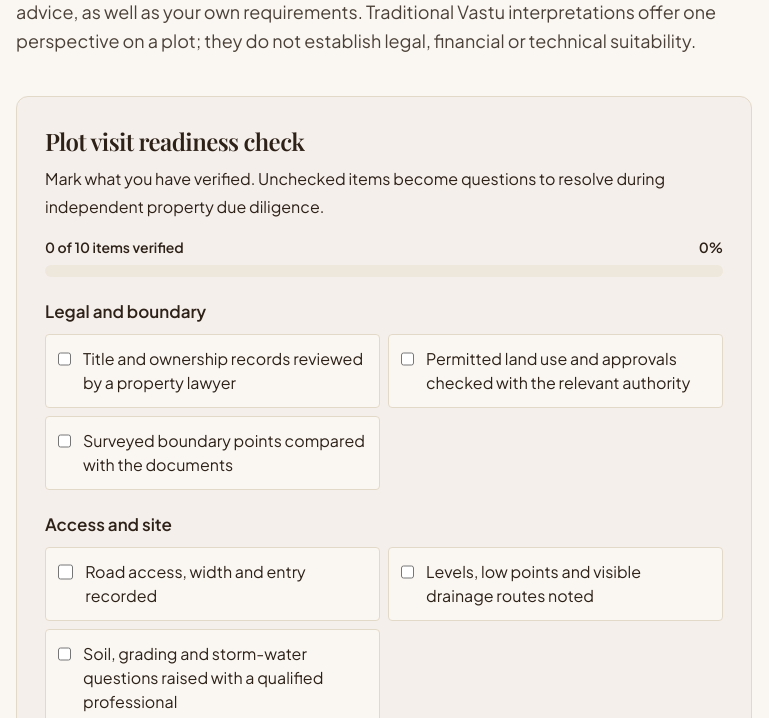
it: blog article guides › updates plot readiness and encodes checked and unresolved questions for WhatsApp
The image size is (769, 718).
(page scrolled)
Click the checkbox labelled "Title and ownership records reviewed by a property lawyer": (64, 358) 58,350 -> 71,366
(page scrolled)
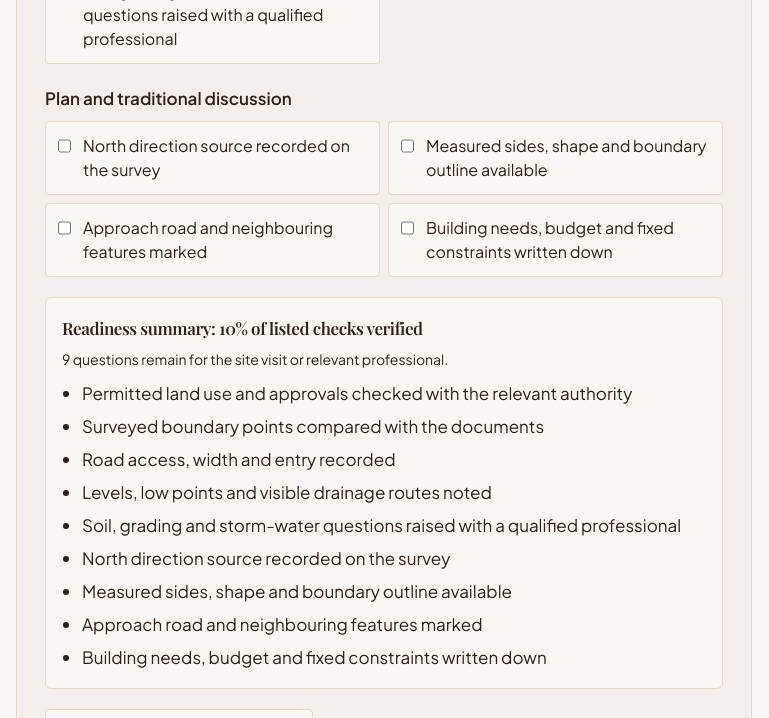
Now the heading "Readiness summary: 10% of listed checks verified" is shown, box 62,316 -> 423,338
Now the text "9 questions remain" is shown, box 62,350 -> 448,368
